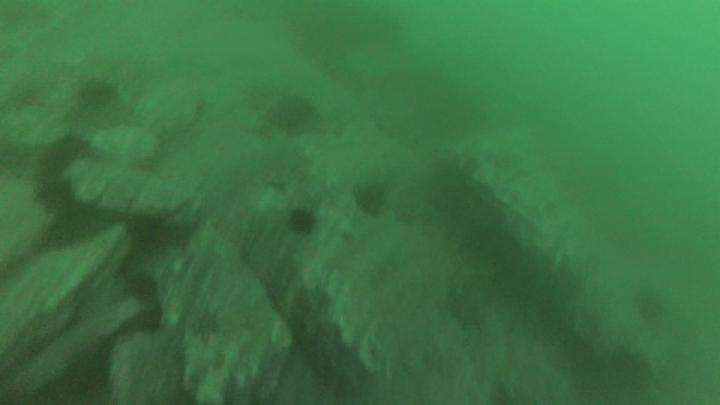echinus: (269, 98, 312, 130), (81, 79, 118, 113), (357, 188, 389, 210), (288, 211, 314, 235)
